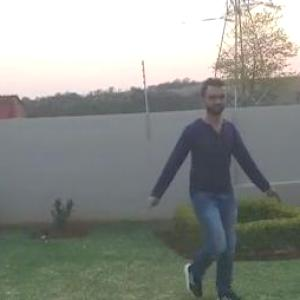land: (133, 77, 273, 299)
